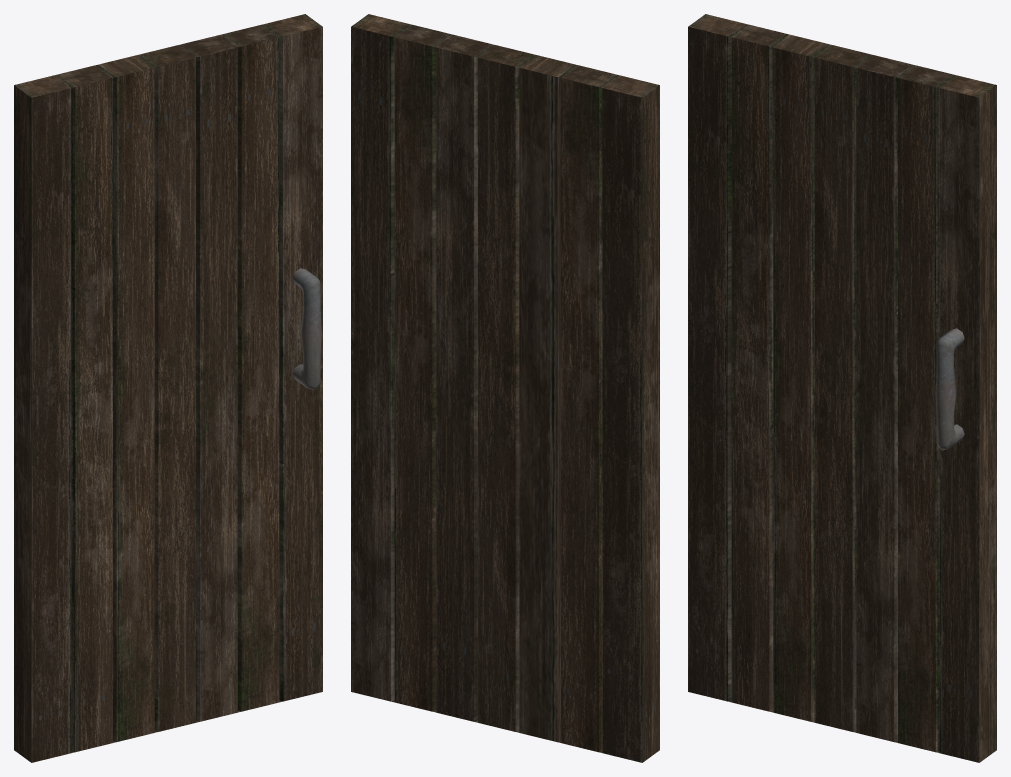
Rendered from Door.fbx.
3 views of the same model, side by side, from view 1: azimuth 30°, elevation 25°; view 2: azimuth 150°, elevation 25°; view 3: azimuth 330°, elevation 25° (orthographic).
Parts seen in each view (by area): view 1: Regular Door; view 2: Regular Door; view 3: Regular Door.
Part boxes in pixels (bbox=[...]): Regular Door: bbox=[14, 14, 322, 762]; Regular Door: bbox=[351, 14, 659, 762]; Regular Door: bbox=[688, 14, 996, 762].
Size of the model in its own units: 89.49 by 195 by 18.28.
